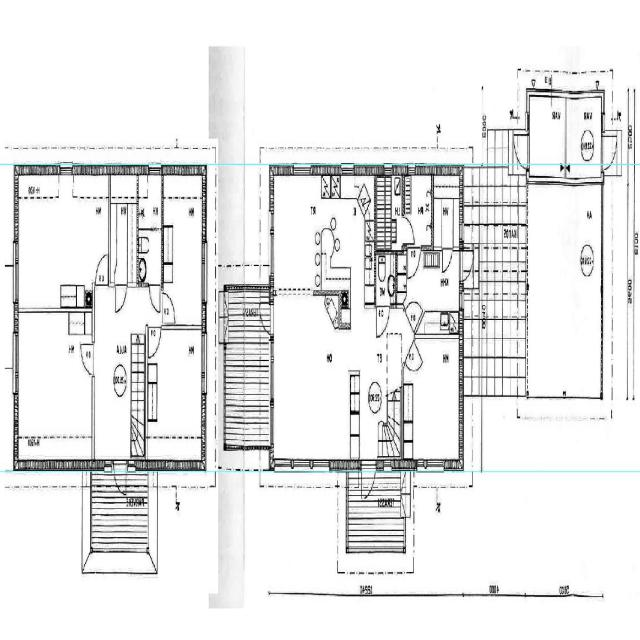door: (404, 289, 424, 334), (404, 339, 423, 385), (147, 308, 164, 351), (361, 460, 376, 506), (512, 134, 529, 168), (256, 302, 274, 334), (601, 136, 618, 169), (459, 250, 476, 280), (114, 459, 126, 500), (408, 244, 420, 282), (96, 252, 108, 288), (80, 344, 94, 374), (377, 304, 389, 338), (115, 283, 126, 314), (402, 217, 415, 243), (443, 246, 452, 274)
